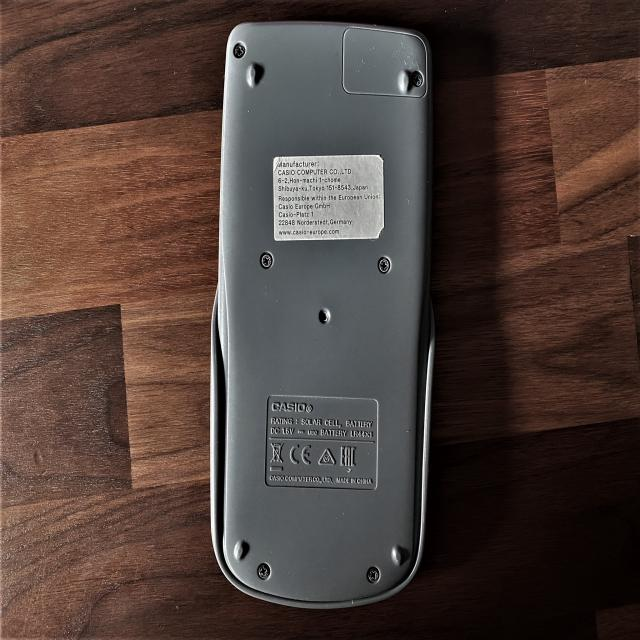PhillipsScrewHead: (256, 564, 270, 580), (366, 566, 379, 583), (261, 252, 273, 270), (413, 71, 424, 89), (378, 256, 389, 274), (233, 43, 244, 58)
